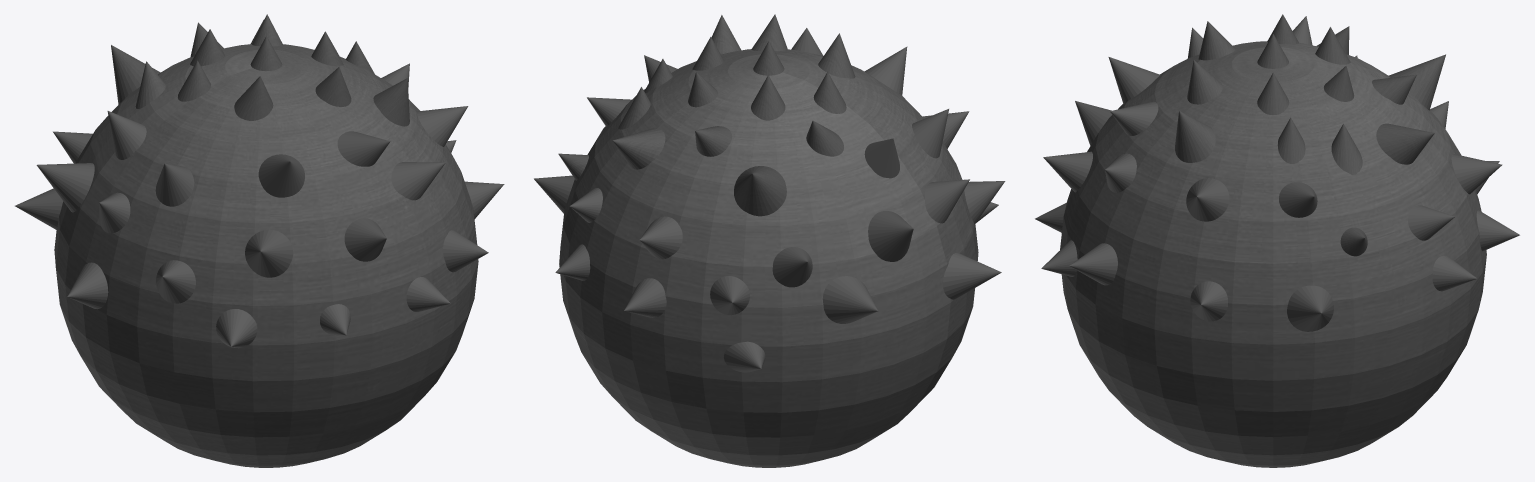
File: obstaculo.fbx
3 views of the same model, side by side, from view 1: azimuth 30°, elevation 25°; view 2: azimuth 150°, elevation 25°; view 3: azimuth 270°, elevation 25° (orthographic).
Parts seen in each view (by area): view 1: Enemigo; view 2: Enemigo; view 3: Enemigo.
Boxes of the visible parts, x1=… form: Enemigo: x1=15, y1=14, x2=504, y2=467; Enemigo: x1=534, y1=14, x2=1005, y2=467; Enemigo: x1=1035, y1=14, x2=1519, y2=467.
Size of the model in its own units: 410 by 375 by 398.
Materials: 1 (1 with a texture image).
